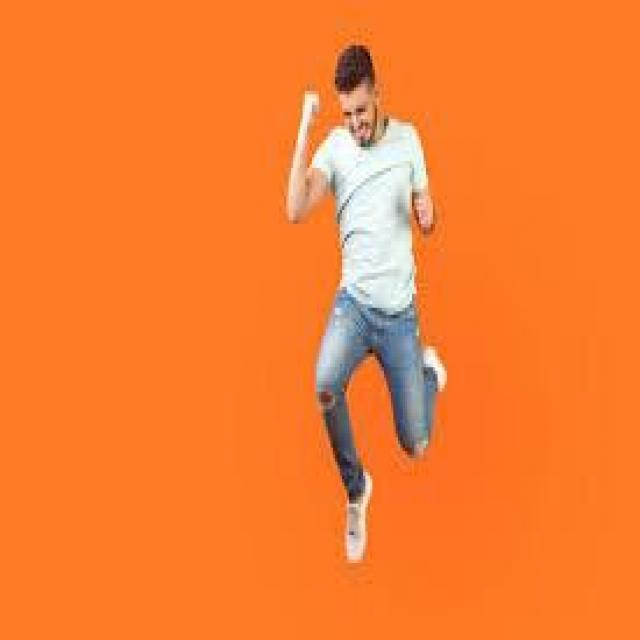person: (244, 42, 496, 598)
